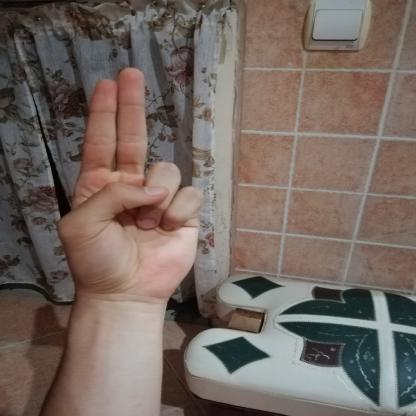TA: (43, 56, 218, 308)
